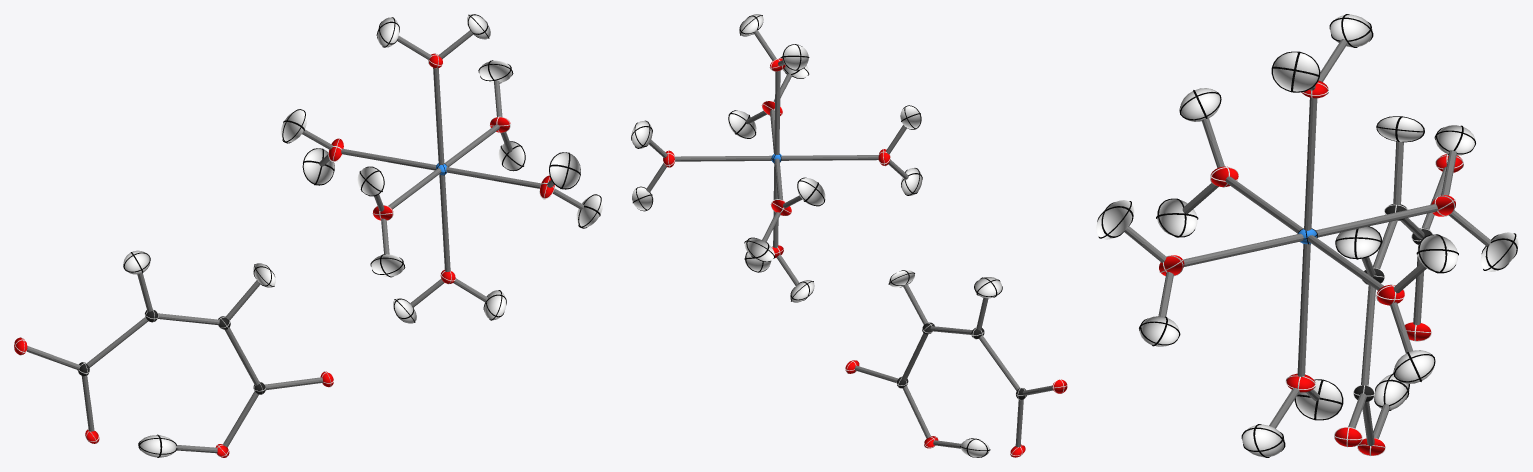
Rendered from HMa-MgH2O.obj.
3 views of the same model, side by side, from view 1: azimuth 30°, elevation 25°; view 2: azimuth 150°, elevation 25°; view 3: azimuth 270°, elevation 25° (orthographic). The views are drawn at different scales.
Parts seen in each view (by area): view 1: H6, object 26, H1, object 30, object 27, H7, object 29, H8, H9; view 2: object 27, H7, object 23, object 26, H3, H8, object 29, H1; view 3: object 24, H5, H8, H2, object 29, H4, H6, object 26, H9, object 23, object 30, H3 (+15 smaller).
Part boxes in pixels (box(x1,y1,x2,y2)): H6: box(549, 152, 580, 189); object 26: box(302, 148, 334, 185); H1: box(138, 434, 177, 457); object 30: box(357, 166, 385, 196); object 27: box(280, 109, 307, 143); H7: box(576, 194, 602, 228); object 29: box(370, 254, 405, 277); H8: box(478, 60, 513, 83); H9: box(498, 141, 526, 171); object 27: box(797, 177, 825, 206); H7: box(728, 110, 756, 138); object 23: box(782, 44, 809, 70); object 26: box(744, 237, 774, 261); H3: box(974, 277, 1002, 298); H8: box(631, 120, 652, 148); object 29: box(901, 168, 922, 195); H1: box(960, 438, 990, 457); object 24: box(1271, 51, 1320, 92); H5: box(1294, 379, 1343, 420); H8: box(1416, 234, 1458, 273); H2: box(1335, 226, 1382, 259); object 29: box(1156, 198, 1198, 237); H4: box(1241, 424, 1285, 457); H6: box(1096, 200, 1134, 239); object 26: box(1480, 232, 1518, 271); H9: box(1393, 350, 1435, 383); object 23: box(1329, 14, 1373, 47); object 30: box(1179, 88, 1221, 121); H3: box(1376, 116, 1424, 142).
Bounding box in the file's own units: 9.88 × 7.77 × 5.4.
